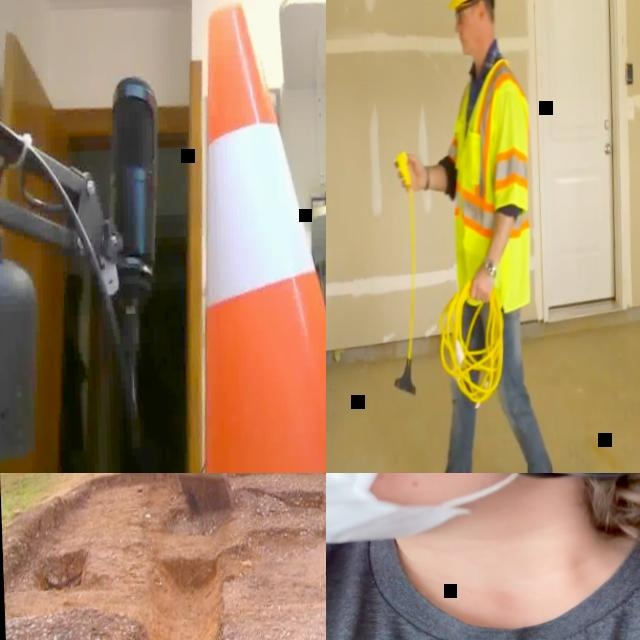Mask: (326, 473, 519, 551)
NO-Mask: (460, 14, 483, 55)
NO-Safety Vest: (326, 526, 640, 640)
Person: (384, 0, 558, 473), (146, 52, 326, 473), (326, 473, 640, 640)
Safety Cone: (131, 0, 326, 473)
Safety Vest: (445, 58, 535, 255)
